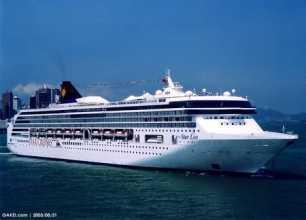youlun: (3, 81, 297, 173)
